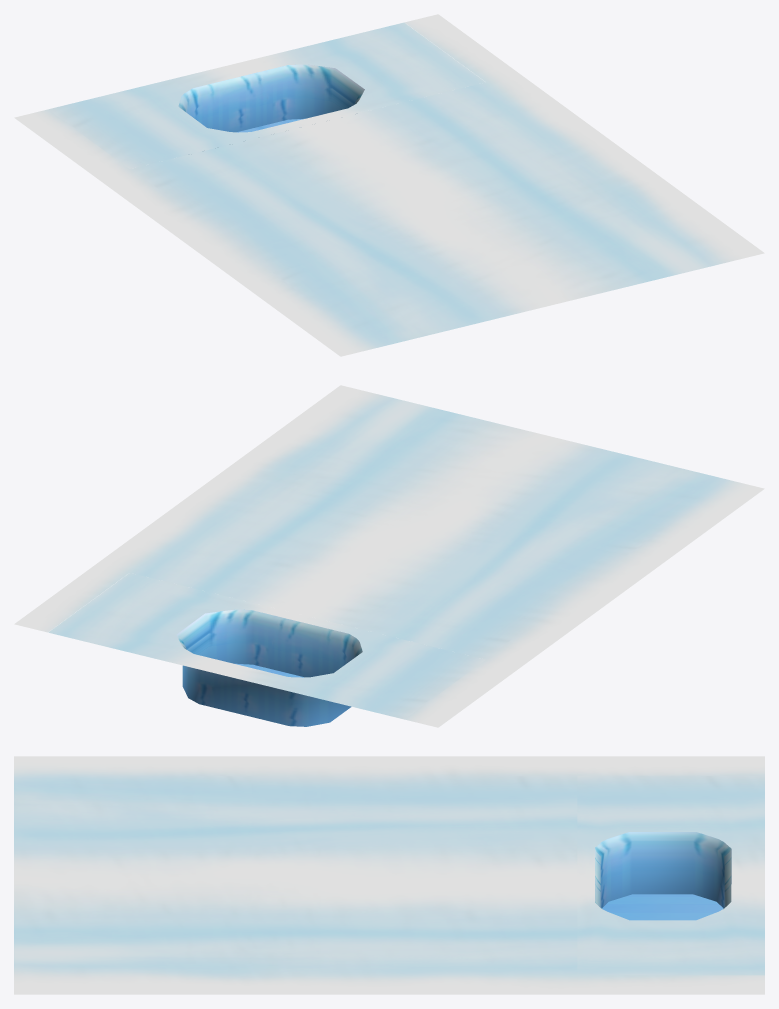
File: Hole_M_Size_01.FBX
The picture shows the model from 3 angles, top to bottom: view 1: azimuth 30°, elevation 25°; view 2: azimuth 150°, elevation 25°; view 3: azimuth 270°, elevation 25°; orthographic projection. The views are drawn at different scales.
Parts seen in each view (by area): view 1: Object111; view 2: Object111; view 3: Object111.
Boxes of the visible parts, x1,y1,x2,y2 form: Object111: (14, 14, 764, 356); Object111: (14, 385, 764, 727); Object111: (14, 756, 764, 994).
Size of the model in its own units: 600 by 70 by 800.
